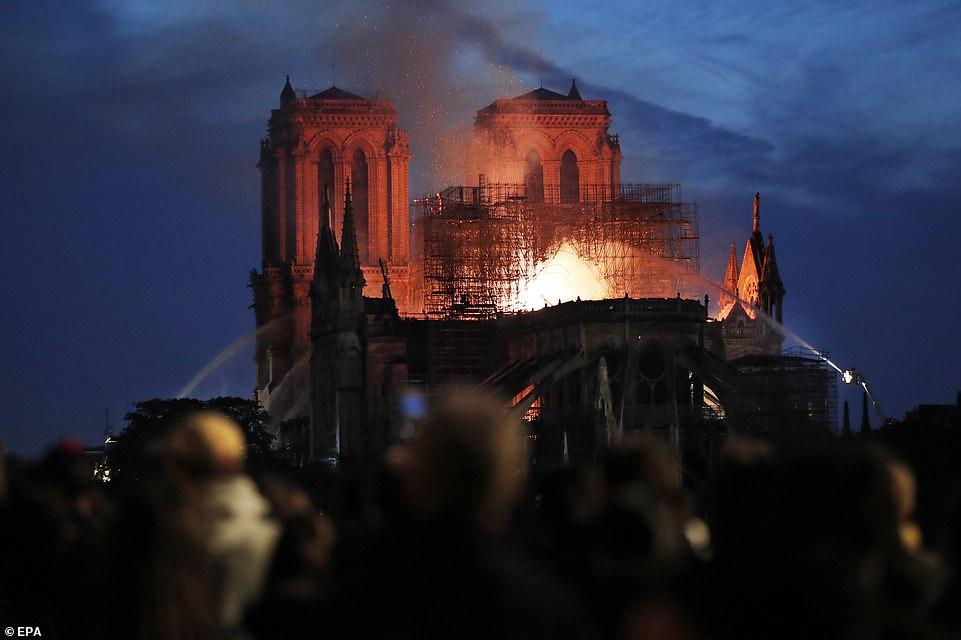Fire: (490, 223, 627, 305)
